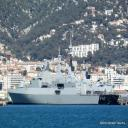Fragata: (8, 48, 122, 106)
